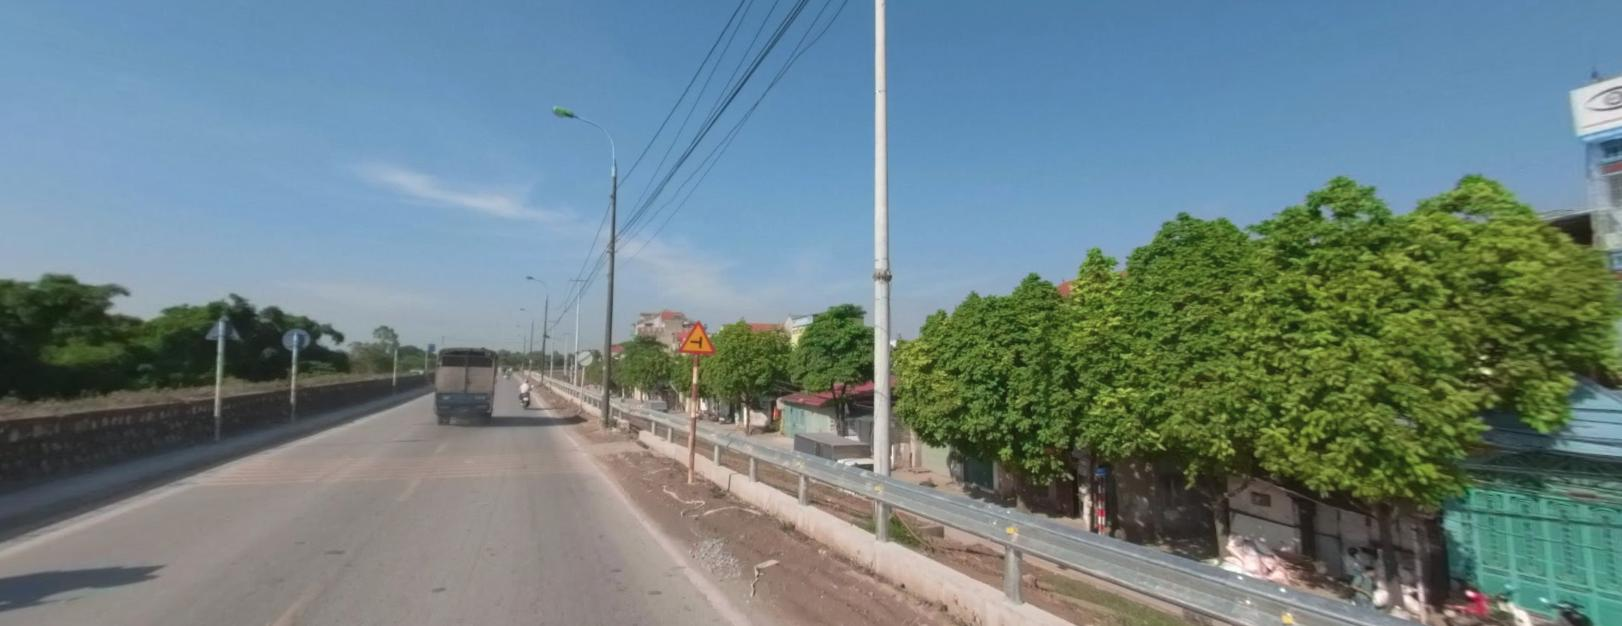Nguy hiem: (677, 317, 715, 355)
